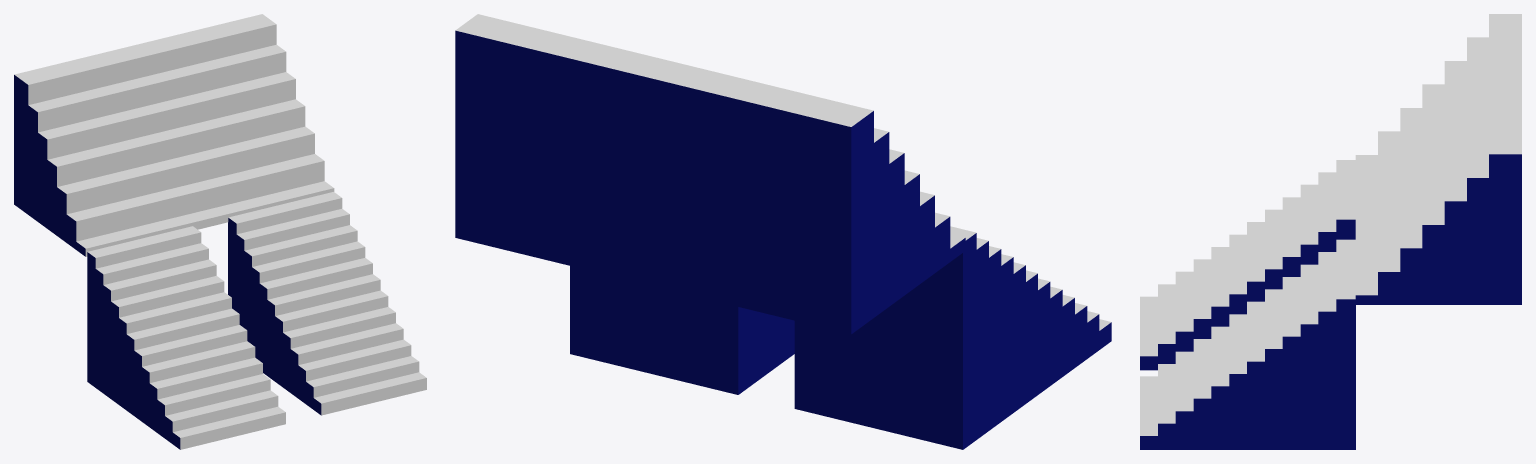
The model's file is gradas plaza.glb.
3 renders of one model, left to right at view 1: azimuth 30°, elevation 25°; view 2: azimuth 150°, elevation 25°; view 3: azimuth 270°, elevation 25°, orthographic. The views are drawn at different scales.
Visible parts, largest first — view 1: Cubo.002, Cubo, Cubo.001; view 2: Cubo.002, Cubo, Cubo.001; view 3: Cubo.002, Cubo.001, Cubo.
Boxes of the visible parts, box(x1,y1,x2,y2) form: Cubo.002: box(14, 14, 334, 256); Cubo: box(87, 226, 285, 449); Cubo.001: box(228, 192, 426, 415); Cubo.002: box(455, 14, 965, 334); Cubo: box(794, 226, 1111, 449); Cubo.001: box(570, 266, 794, 394); Cubo.002: box(1355, 14, 1521, 304); Cubo.001: box(1140, 239, 1355, 449); Cubo: box(1140, 160, 1355, 370).
Size of the model in its own units: 4 by 3.93 by 4.6.
